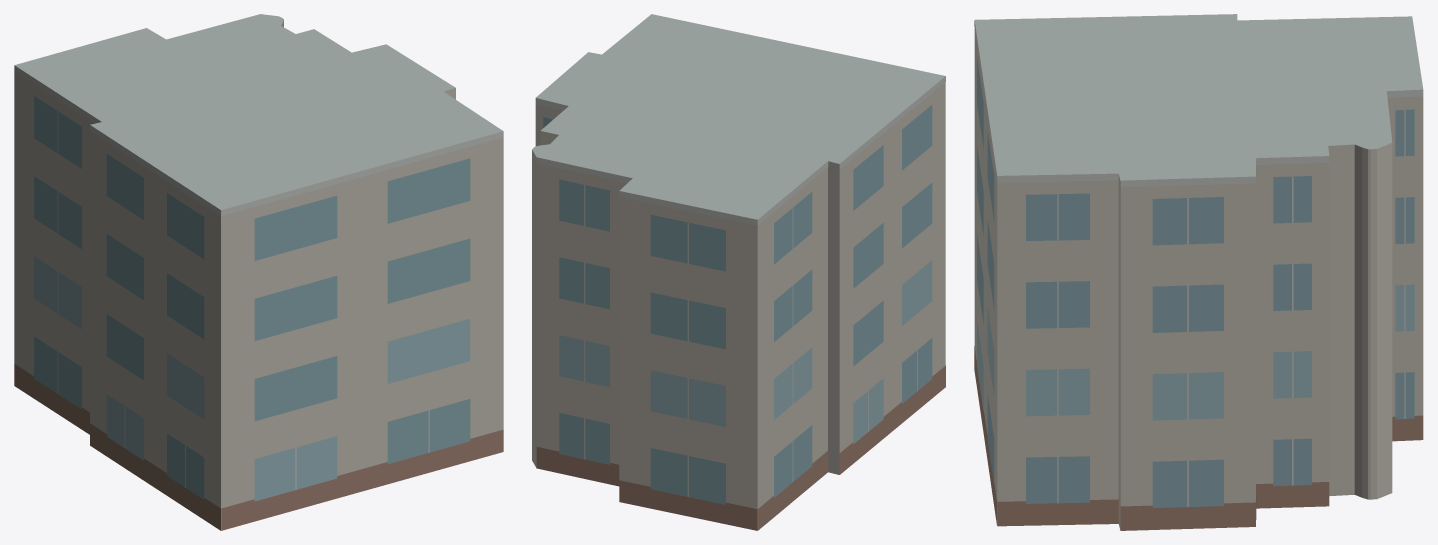
Rendered from survey-upis-32737558.glb.
The picture shows the model from 3 angles, left to right: view 1: azimuth 30°, elevation 25°; view 2: azimuth 150°, elevation 25°; view 3: azimuth 270°, elevation 25°; orthographic projection. The views are drawn at different scales.
Parts seen in each view (by area): view 1: survey-upis-32737558.tmp; view 2: survey-upis-32737558.tmp; view 3: survey-upis-32737558.tmp.
Boxes of the visible parts, bbox=[...] form: survey-upis-32737558.tmp: bbox=[14, 14, 503, 530]; survey-upis-32737558.tmp: bbox=[532, 14, 945, 530]; survey-upis-32737558.tmp: bbox=[974, 14, 1423, 530].
Bounding box in the file's own units: 13.06 × 12.8 × 14.87.
